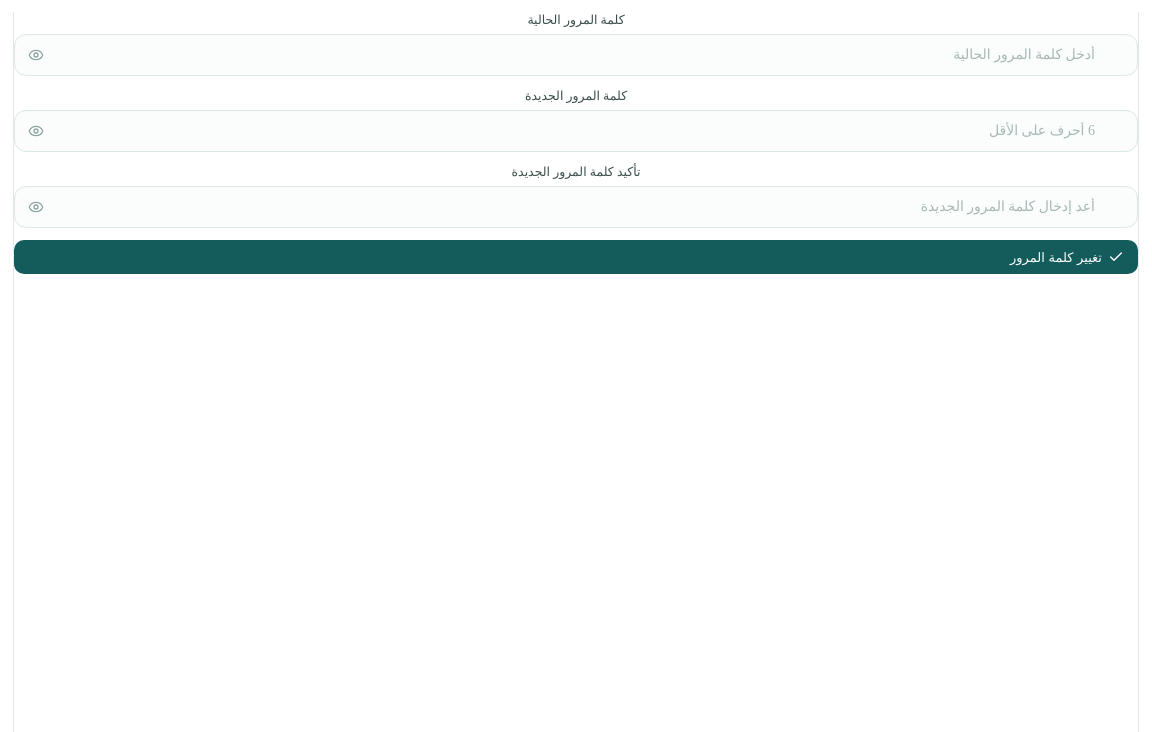
Scenario: ChangePasswordForm — validation › rejects a new password identical to the current password
The width and height of the screenshot is (1152, 732).
Type "samepass1" into the password field with placeholder "أدخل كلمة المرور الحالية" at (576, 55), box [14,34,1138,76]
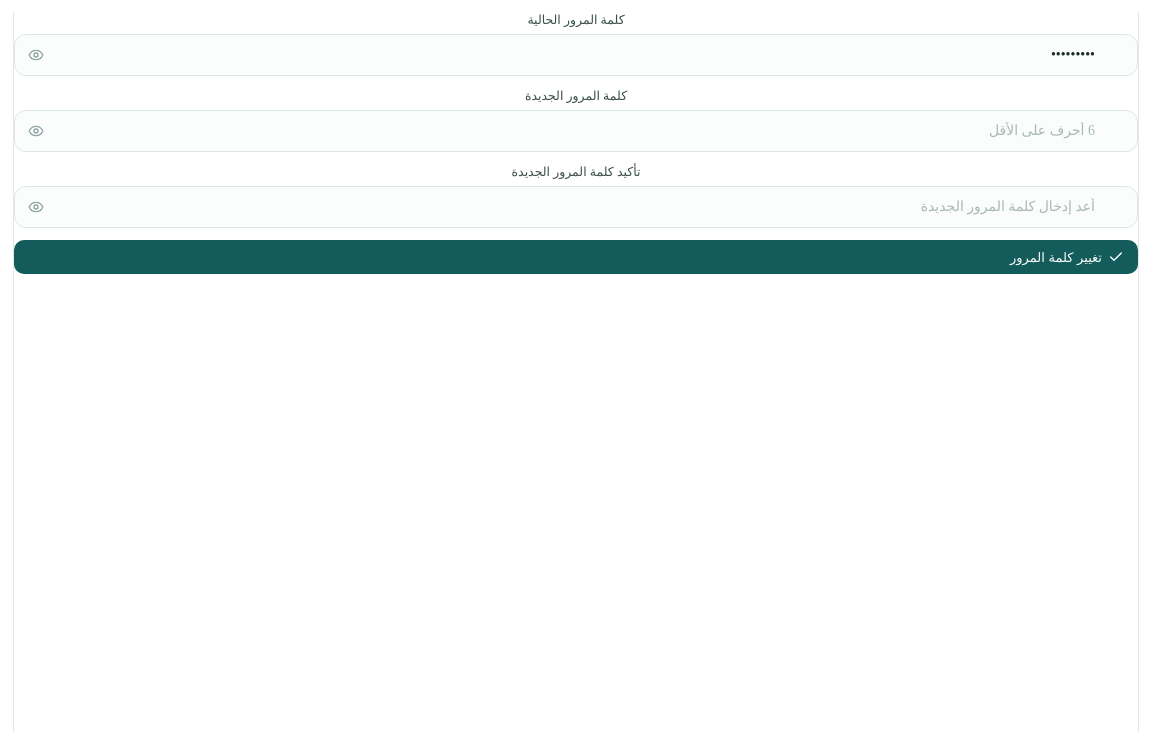
Type "samepass1" into the password field with placeholder "6 أحرف على الأقل" at (576, 131), box [14,110,1138,152]
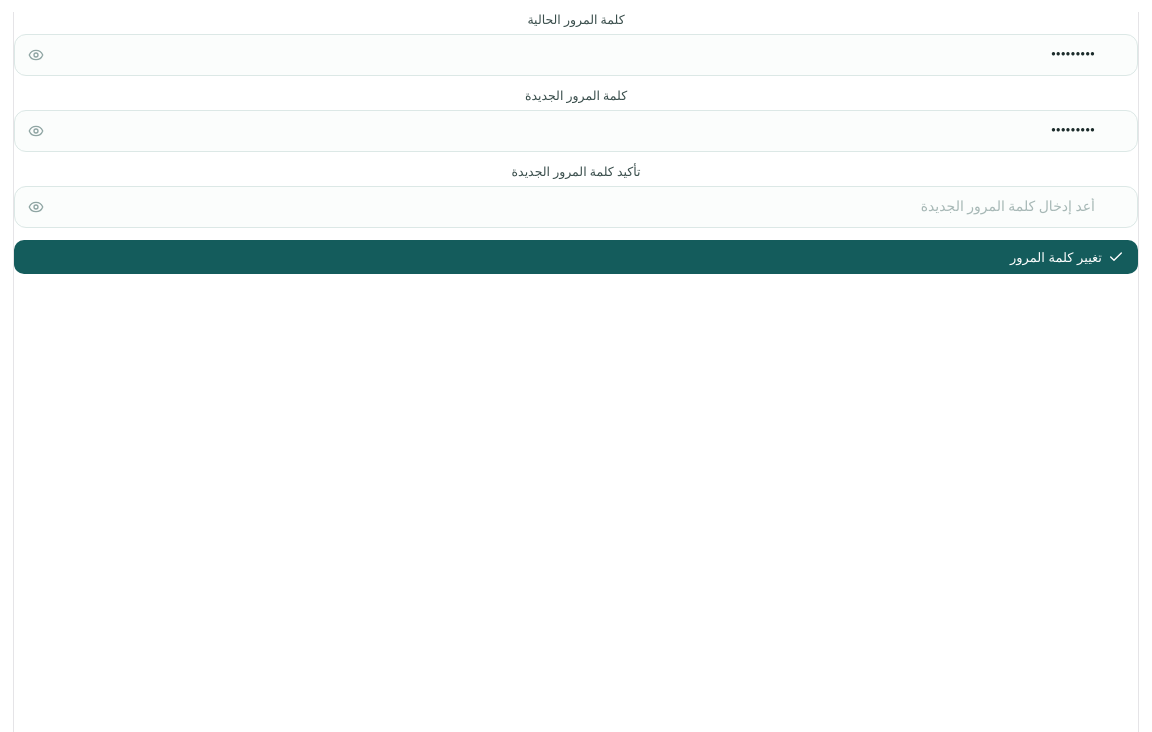
Type "samepass1" into the password field with placeholder "أعد إدخال كلمة المرور الجديدة" at (576, 207), box [14,186,1138,228]
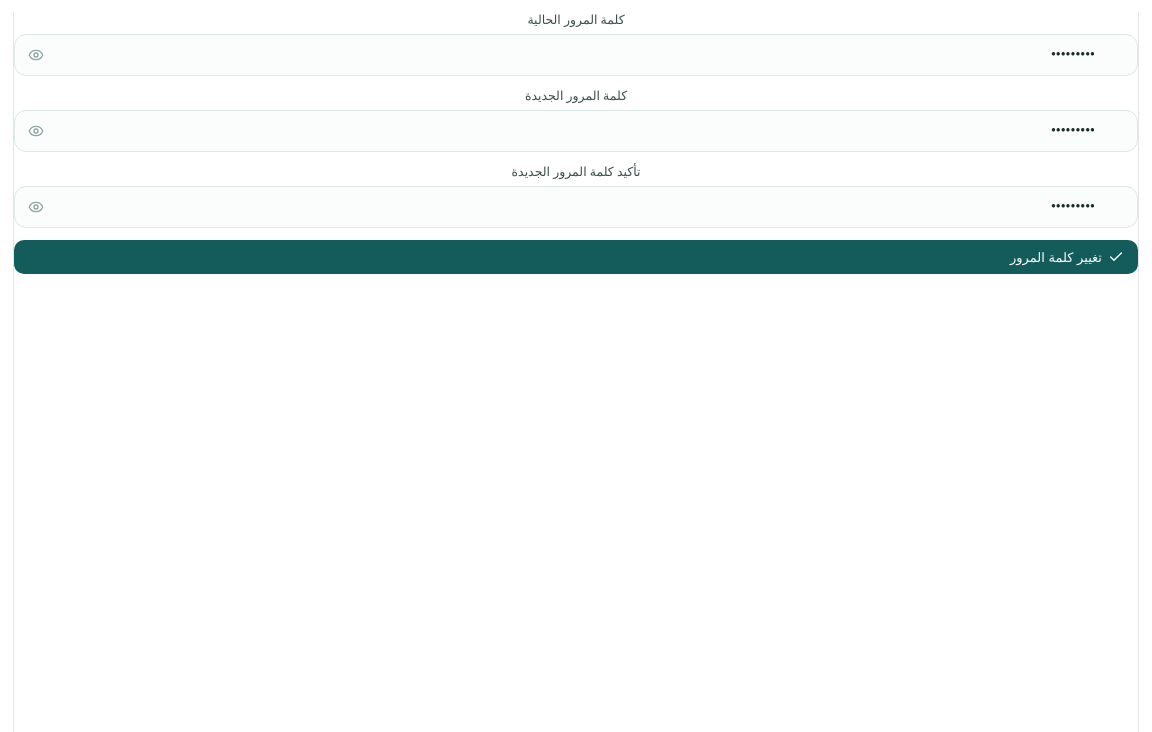
Click the button "تغيير كلمة المرور" at (1056, 257), box [14,240,1138,274]
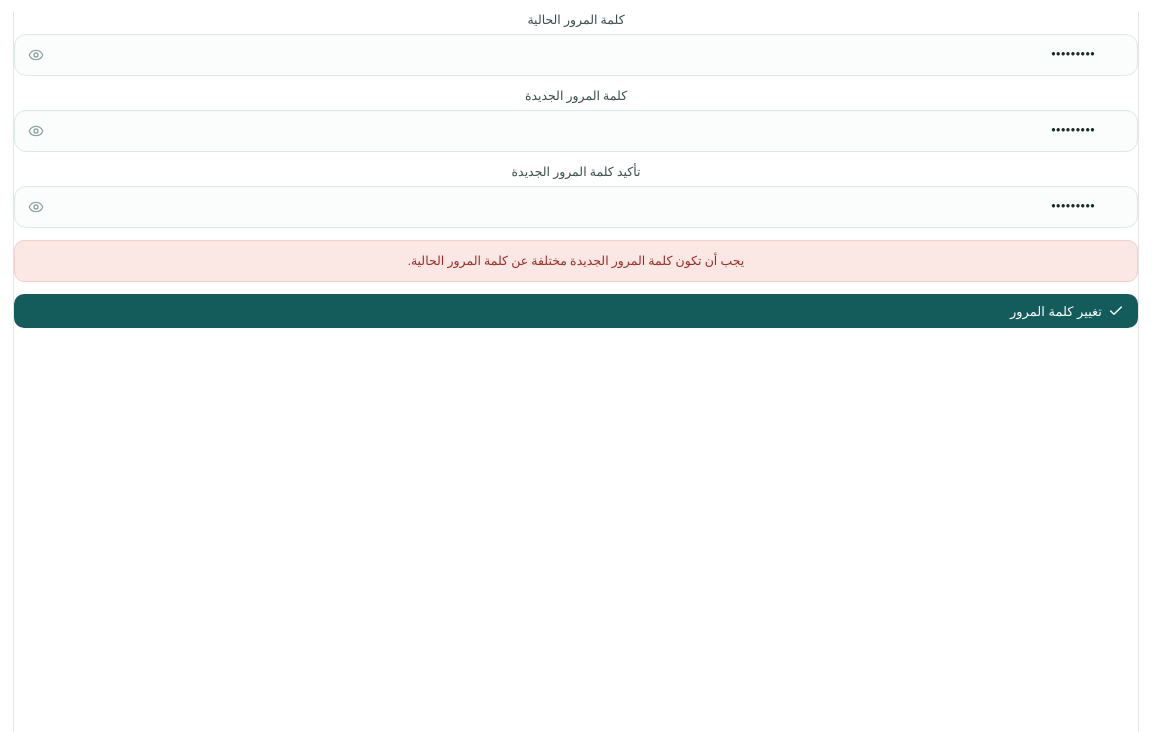
Check: the text "يجب أن تكون كلمة المرور الجديدة مختلفة عن كلمة المرور الحالية." is shown, box [14,240,1138,282]
